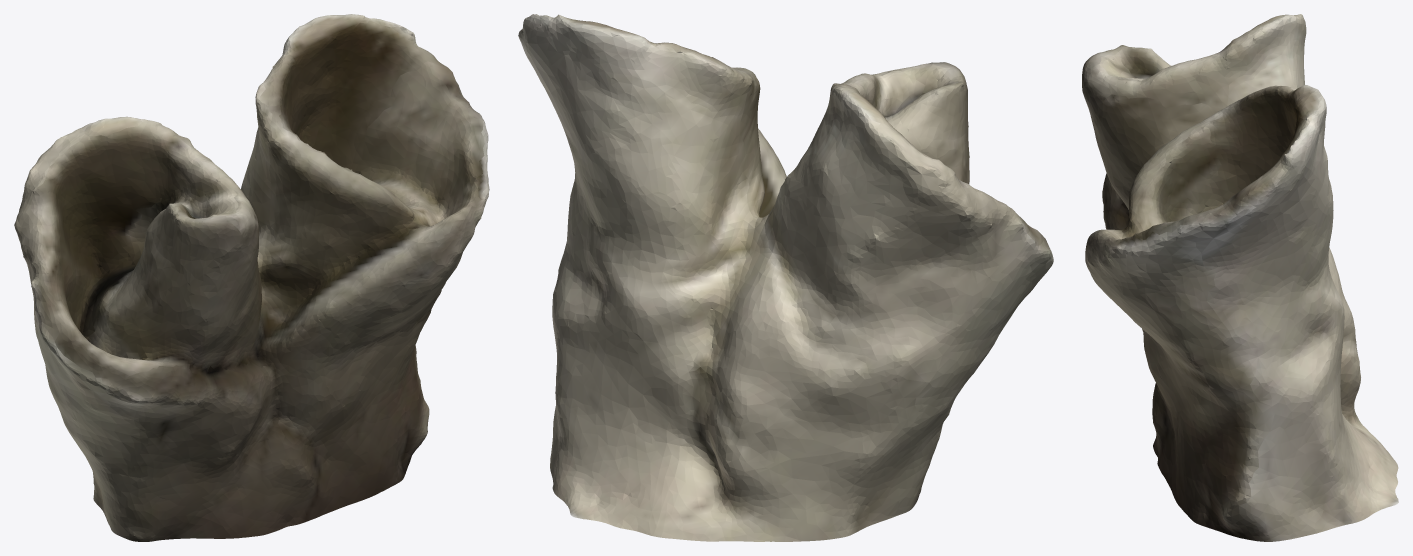
Rendered from reef.glb.
3 renders of one model, left to right at view 1: azimuth 30°, elevation 25°; view 2: azimuth 150°, elevation 25°; view 3: azimuth 270°, elevation 25°, orthographic. The views are drawn at different scales.
Parts seen in each view (by area): view 1: mesh; view 2: mesh; view 3: mesh.
Boxes of the visible parts, bbox=[...] form: mesh: bbox=[14, 14, 489, 541]; mesh: bbox=[518, 14, 1053, 541]; mesh: bbox=[1082, 14, 1398, 541].
Bounding box in the file's own units: 0.0965 × 0.0857 × 0.0591.
1 material, 1 textured.
